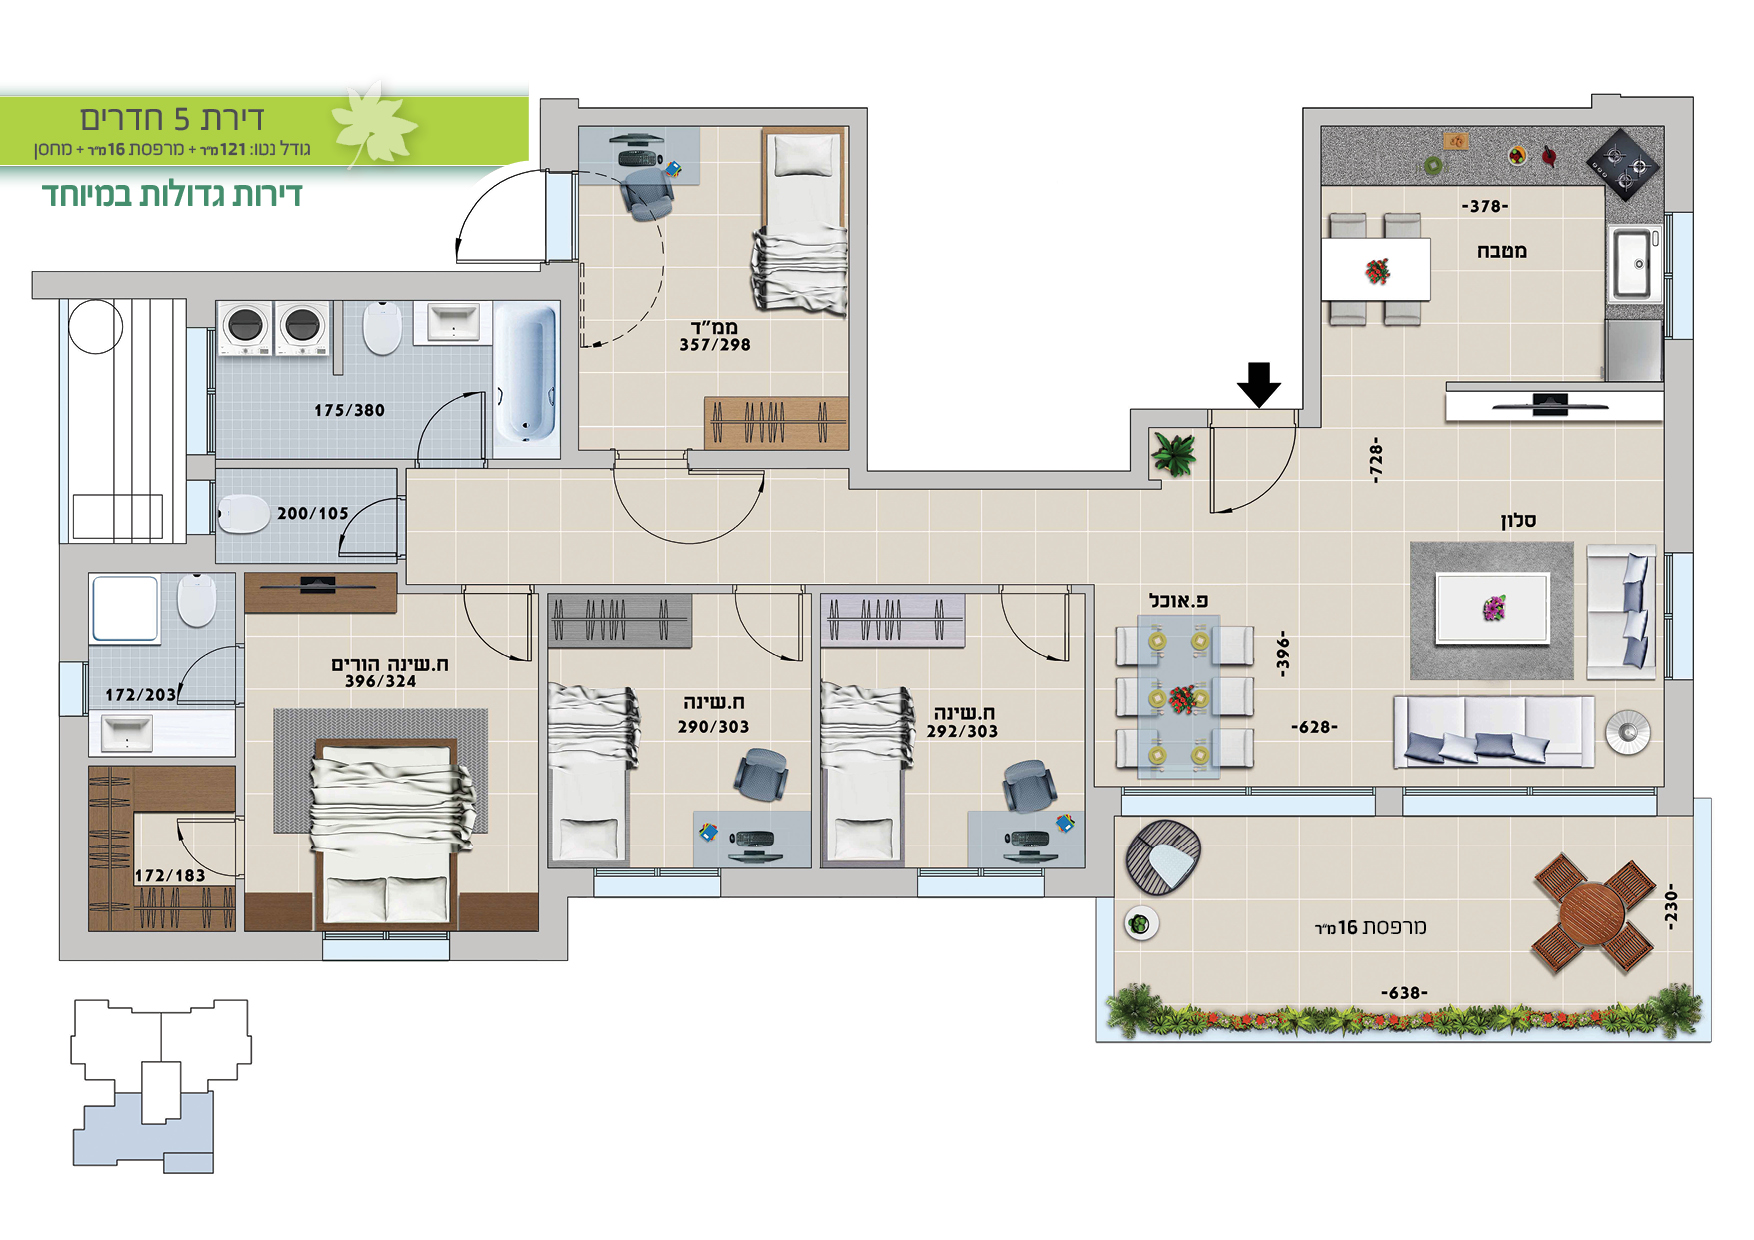door: (603, 467, 786, 565), (417, 184, 530, 267), (1201, 440, 1303, 527), (726, 601, 815, 678), (450, 601, 534, 680), (989, 603, 1086, 667), (326, 488, 386, 556), (162, 815, 228, 866), (174, 641, 217, 705)
wall: (30, 272, 584, 303), (1307, 107, 1695, 126), (864, 468, 1145, 494), (59, 713, 87, 965), (86, 935, 326, 964), (851, 109, 866, 490), (851, 471, 1155, 488), (1304, 107, 1318, 432), (726, 875, 914, 898), (87, 546, 216, 576), (455, 930, 568, 961), (60, 538, 89, 655)
window: (1122, 786, 1378, 825), (1669, 211, 1726, 344), (921, 871, 1043, 931), (1664, 553, 1722, 678), (1405, 790, 1659, 819), (322, 931, 450, 980), (593, 871, 722, 915)
